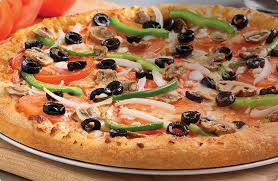pizza: (4, 4, 278, 172)
